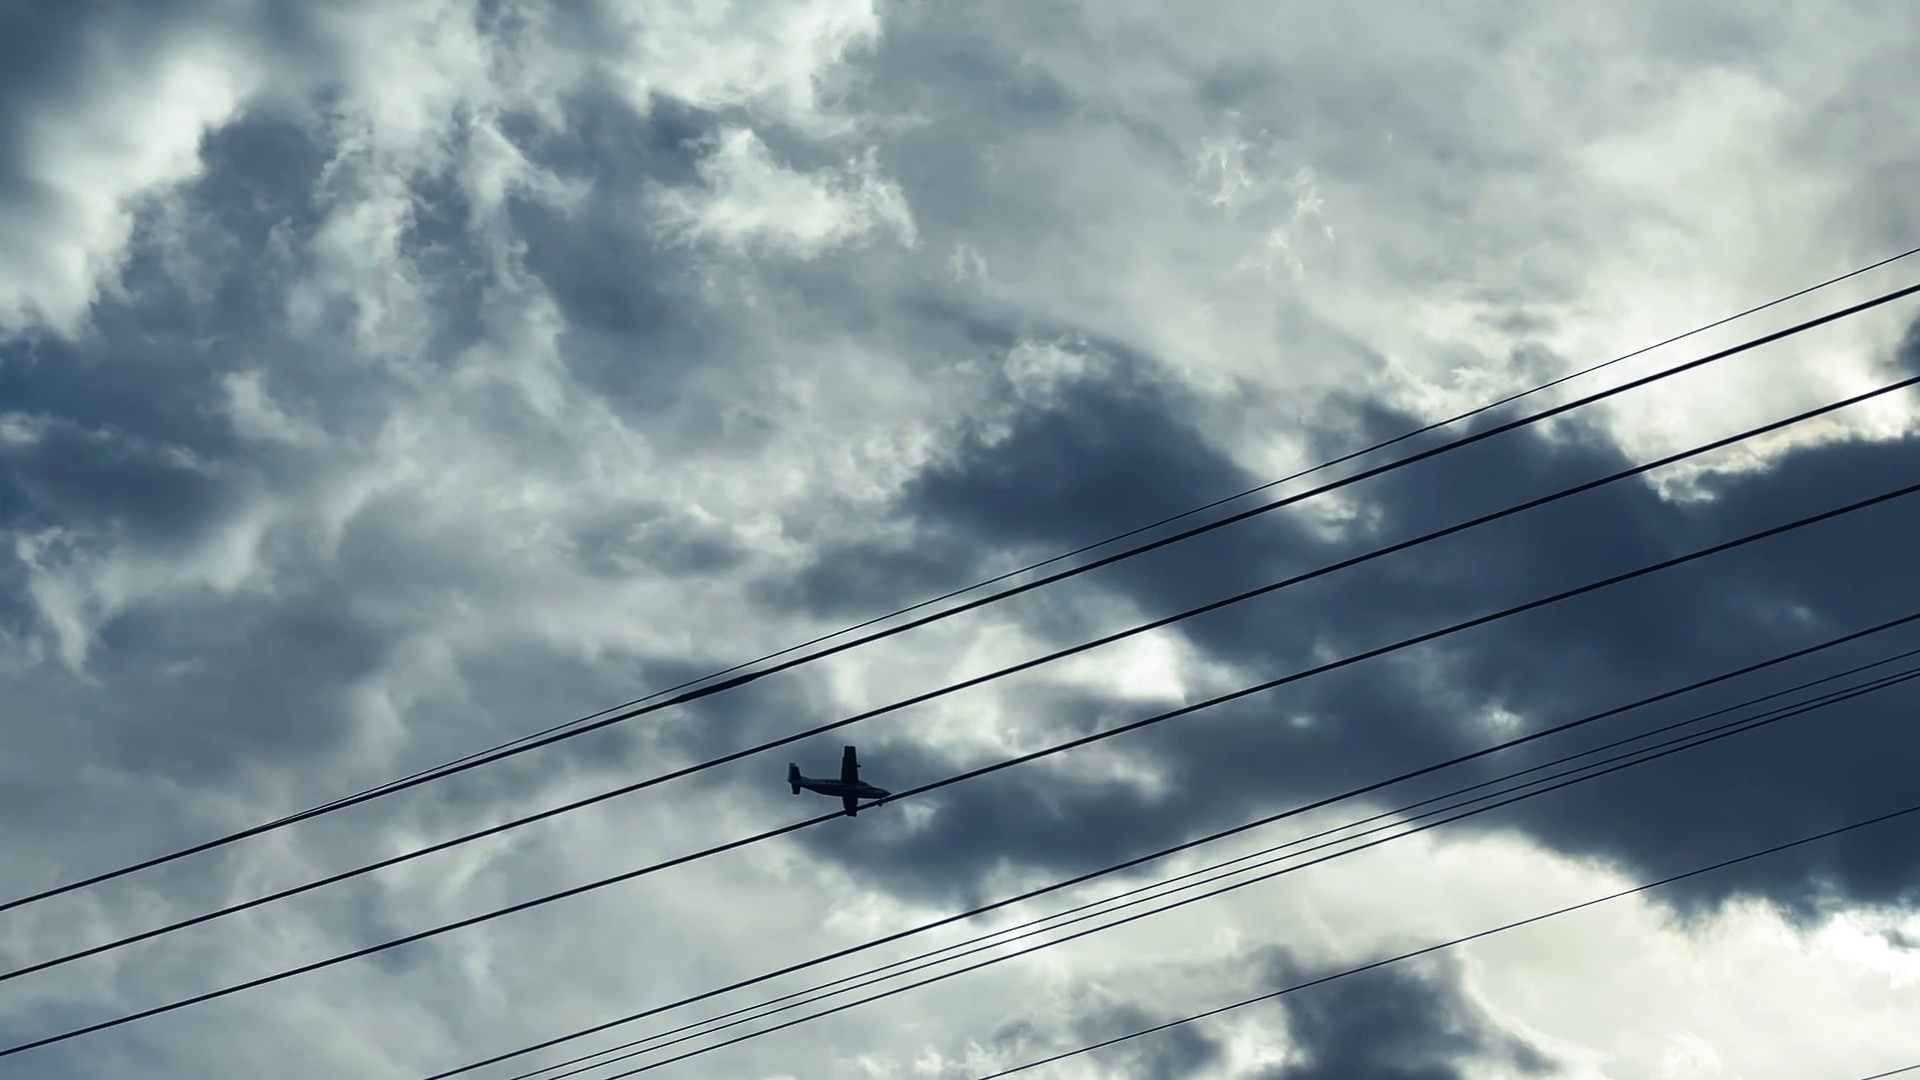plane: (786, 744, 895, 818)
